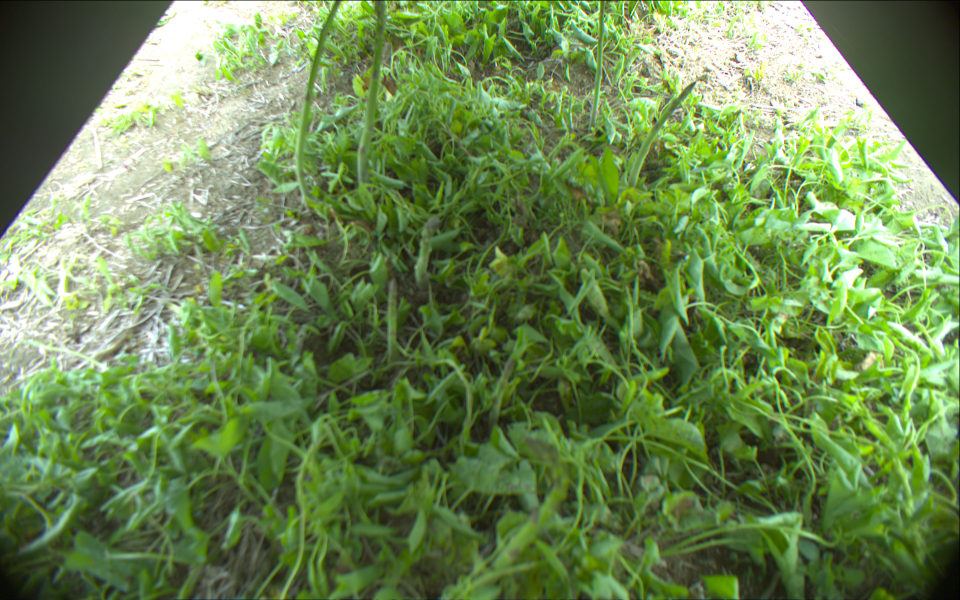aspa: (460, 477, 568, 600), (292, 1, 343, 196), (626, 80, 697, 191), (356, 1, 389, 188), (588, 1, 607, 131), (489, 355, 517, 427), (413, 216, 439, 287), (386, 277, 398, 371)
